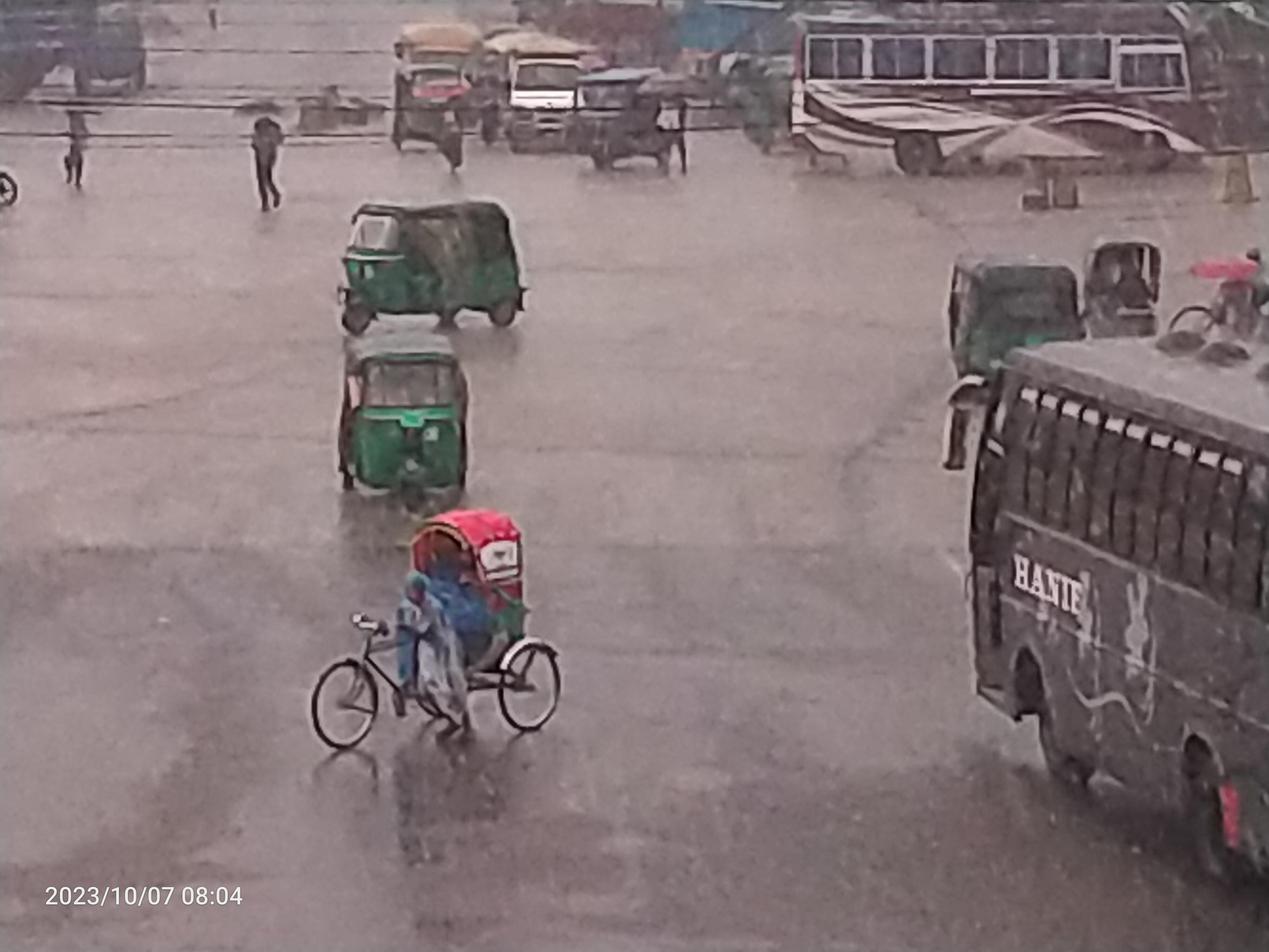Bus: (924, 331, 1269, 881), (770, 14, 1240, 204)
Car: (284, 495, 604, 808), (1074, 202, 1180, 344)
